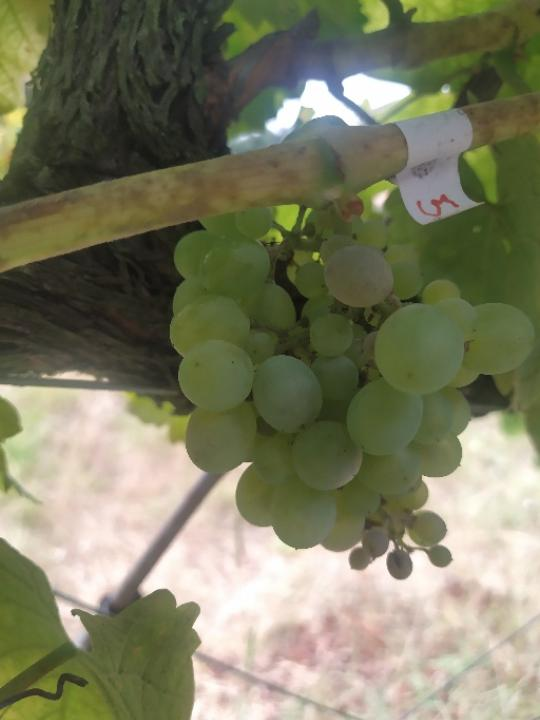grape: (165, 189, 539, 583)
